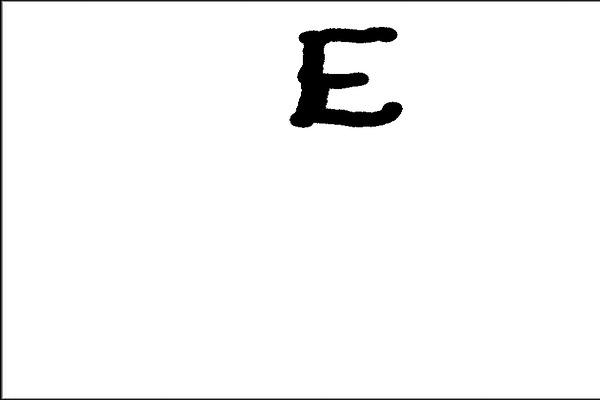E: (285, 24, 407, 128)
